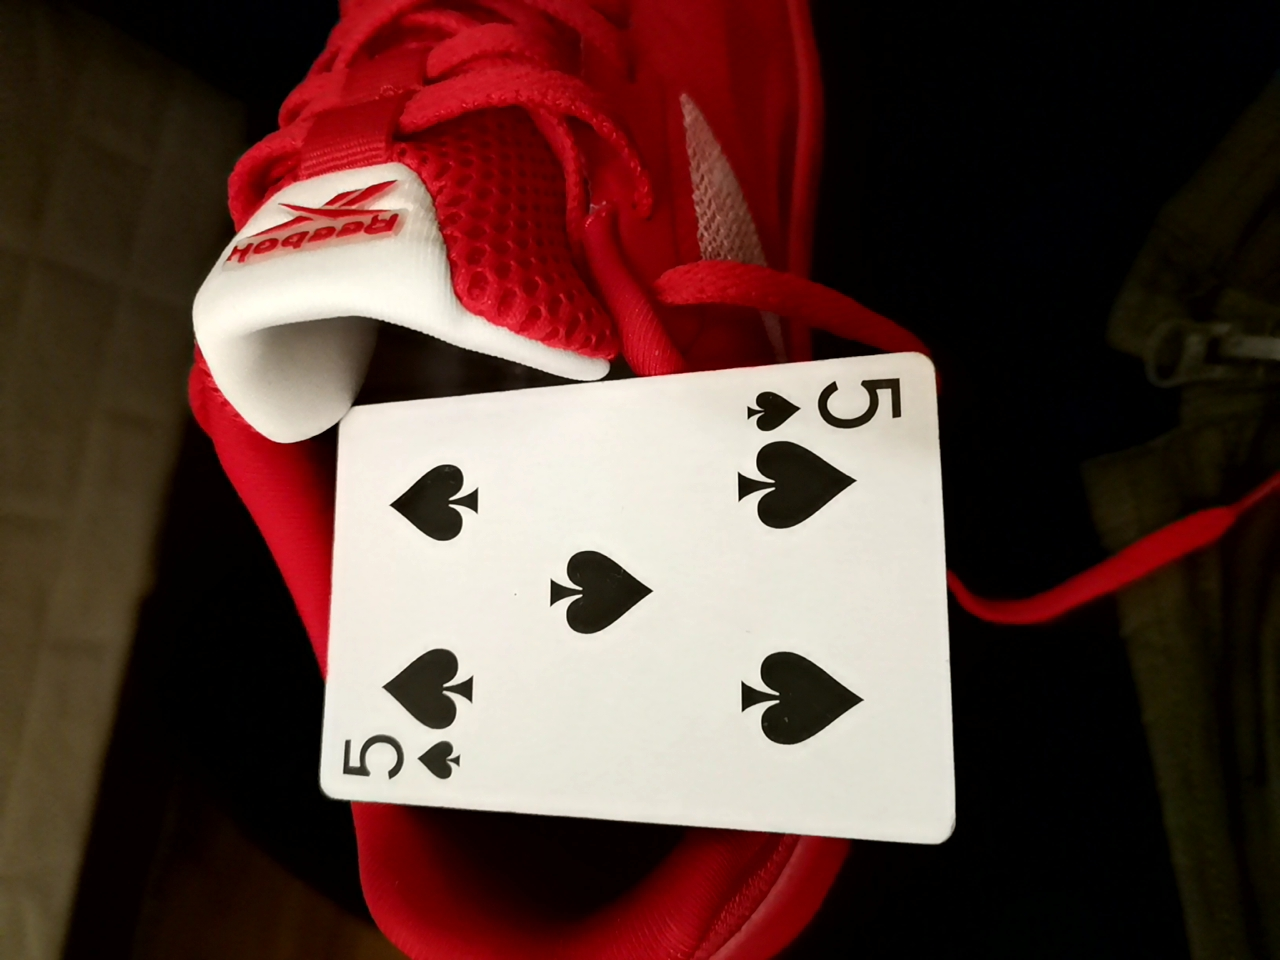ht 5: (308, 351, 948, 836)
